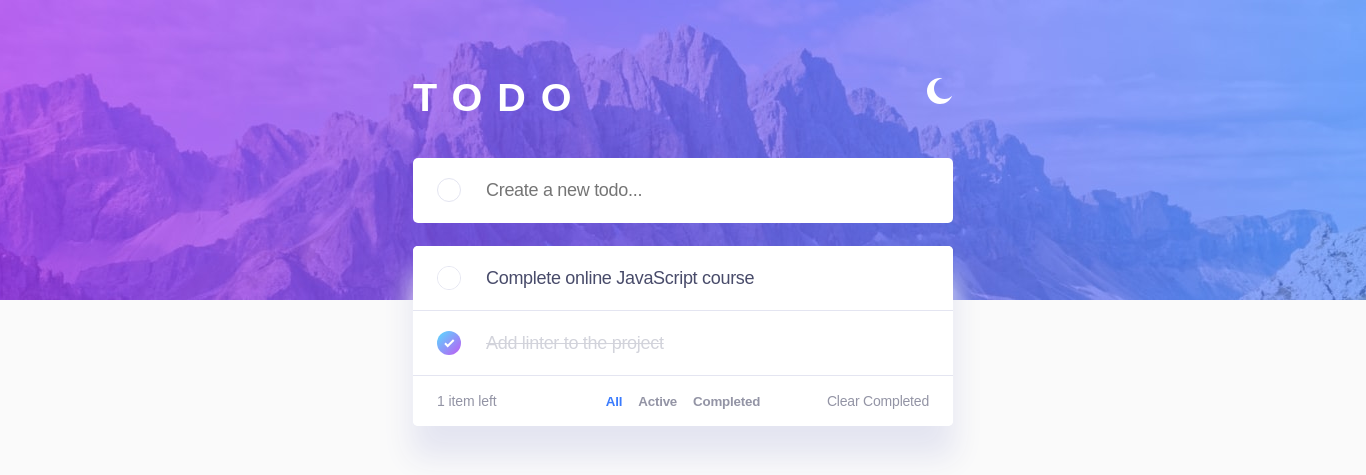
Scenario: should show active tasks
This screenshot has width=1366, height=475.
Step 1. Click the button "Active" → (658, 401), box x1=638 y1=393 x2=677 y2=409
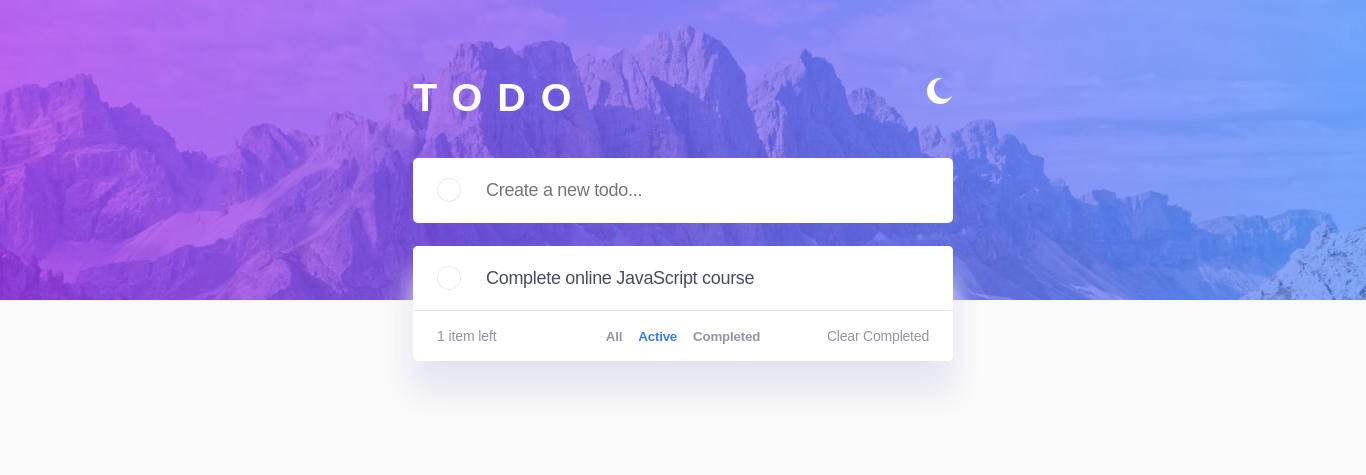
Check: the checkbox labelled "Complete online JavaScript course" is shown, box x1=486 y1=268 x2=754 y2=288
Check: the checkbox labelled "Add linter to the project" is gone
